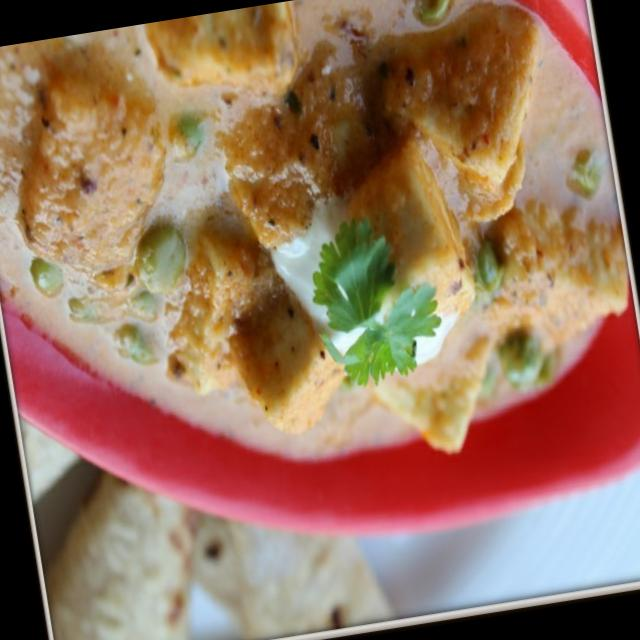ShahiPaneer: (0, 0, 640, 513)
